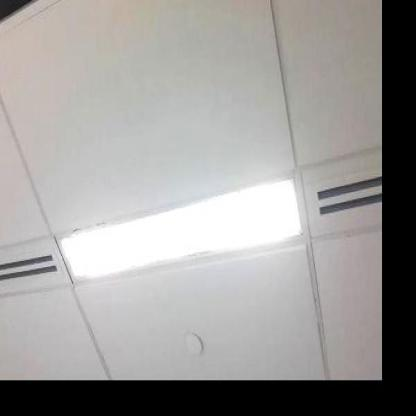light_on: (48, 169, 309, 287)
